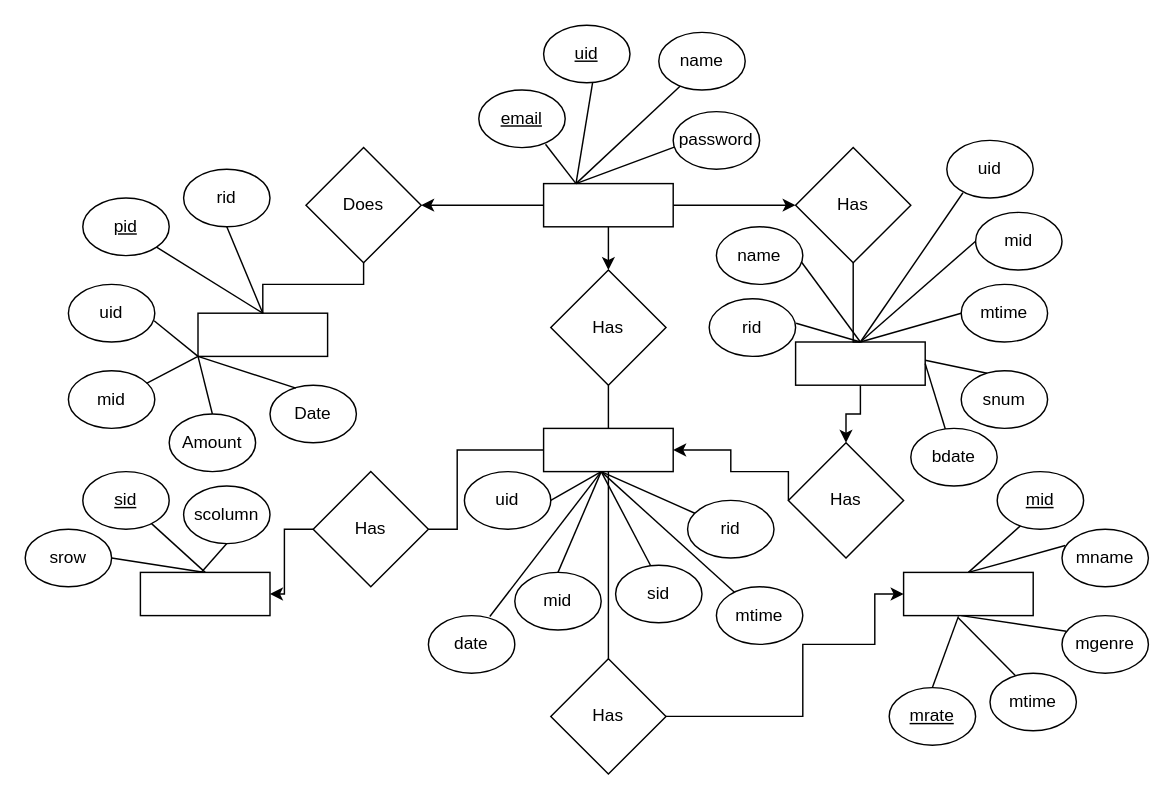
Image size: 1174x799. Some labels were removed from this diagram. The shapes that lost their labels are listed below. From the top down, each one's centre as x and y in pixels, then its label:
At point (607, 204): "Users".
At point (262, 334): "Payment".
At point (859, 363): "Book".
At point (607, 449): "Reservation".
At point (204, 593): "Seats".
At point (967, 593): "Movies".
